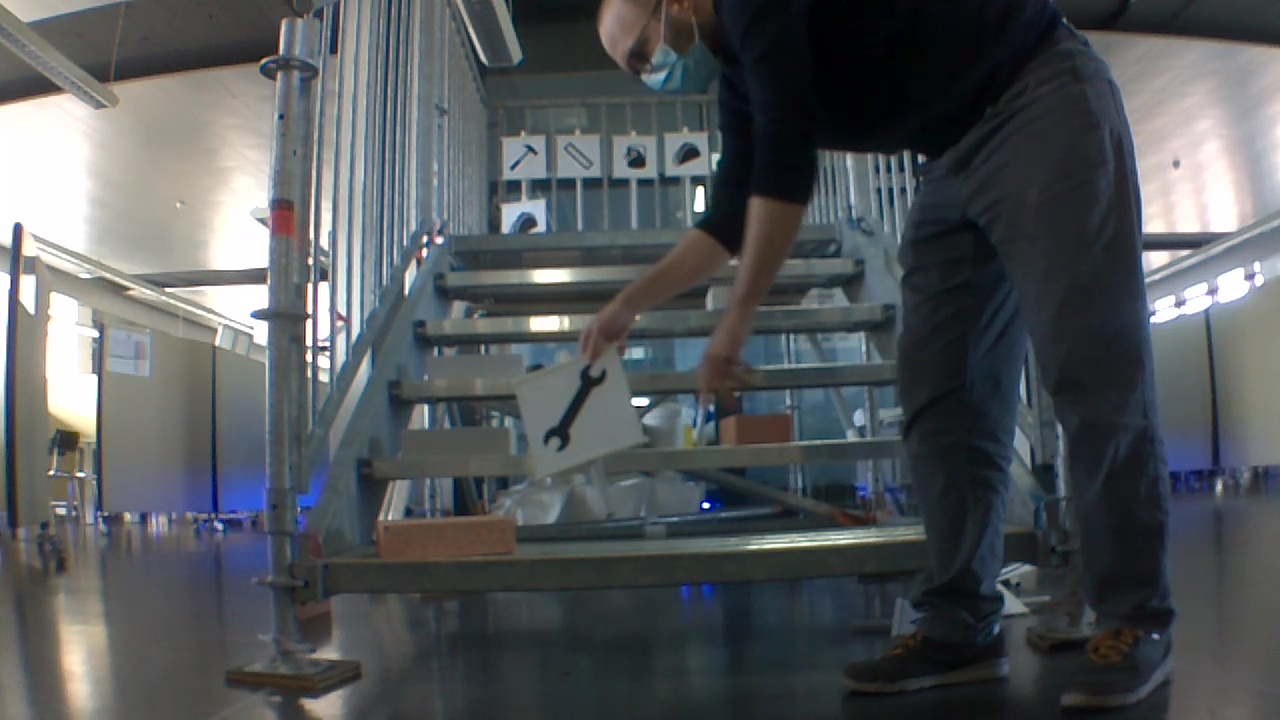brick: (376, 513, 514, 561), (402, 426, 514, 459), (427, 355, 524, 381), (720, 413, 793, 445)
bucket: (620, 142, 648, 173)
hammer: (506, 140, 539, 173)
ruler: (560, 137, 595, 172)
taco: (669, 139, 700, 169), (507, 212, 543, 234)
wrench: (534, 358, 612, 455)
